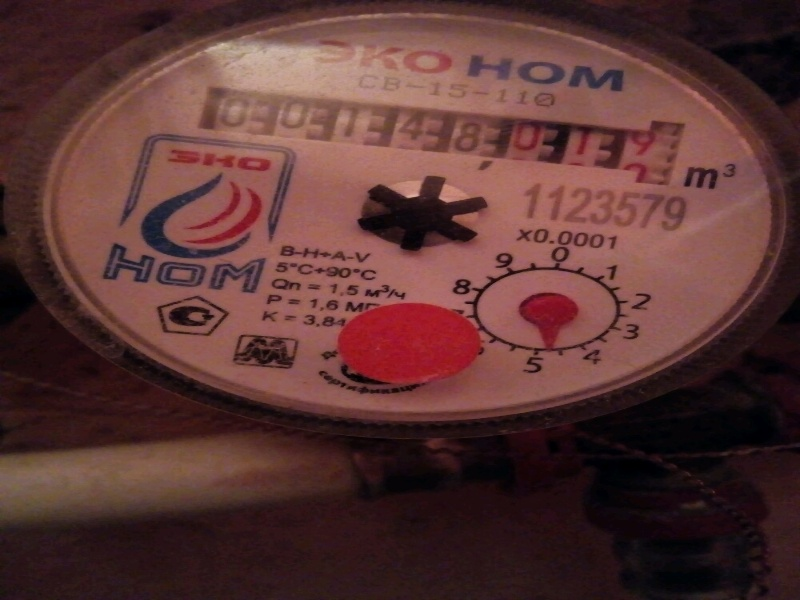meter: (193, 91, 677, 184)
